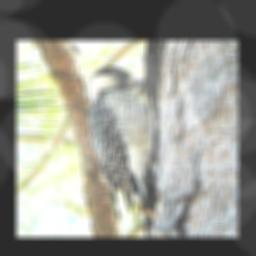Woodpecker: (87, 66, 156, 216)
